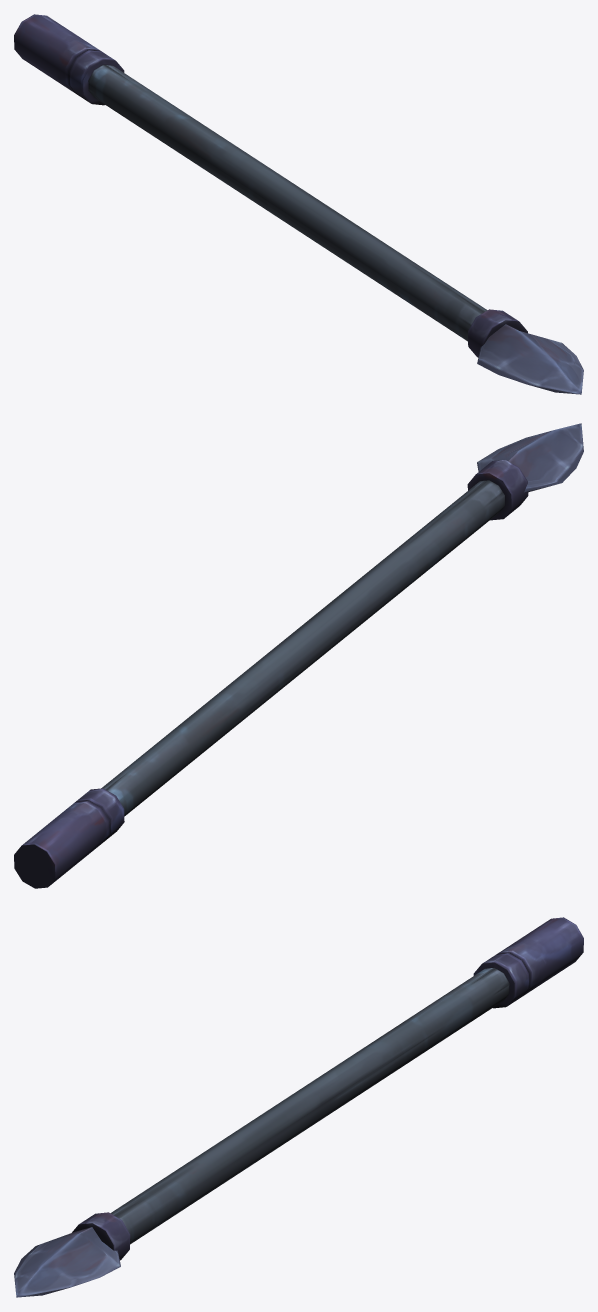
The model's file is balista_spear_03.fbx.
3 renders of one model, top to bottom at view 1: azimuth 30°, elevation 25°; view 2: azimuth 150°, elevation 25°; view 3: azimuth 330°, elevation 25°, orthographic.
Visible parts, largest first — view 1: balista_spear_03; view 2: balista_spear_03; view 3: balista_spear_03.
Boxes of the visible parts, x1,y1,x2,y2 form: balista_spear_03: (14,14,583,394); balista_spear_03: (14,423,583,888); balista_spear_03: (14,917,583,1297).
Bounding box in the file's own units: 0.3122 × 0.2959 × 3.47.
